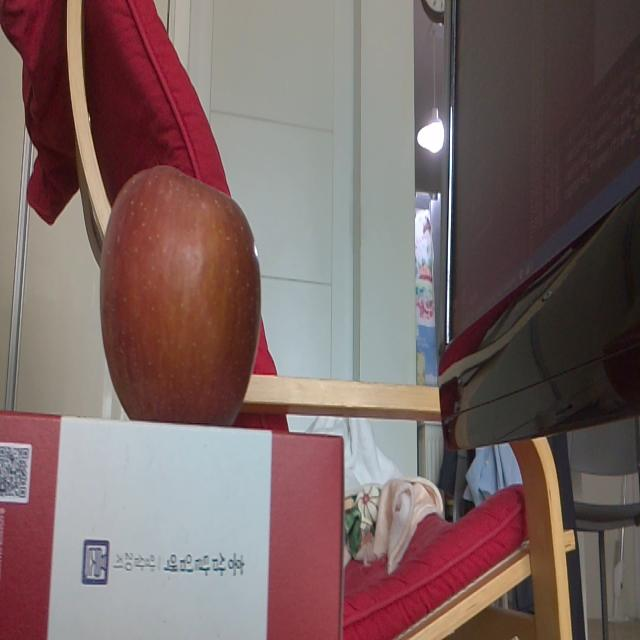apple: (100, 166, 262, 424)
